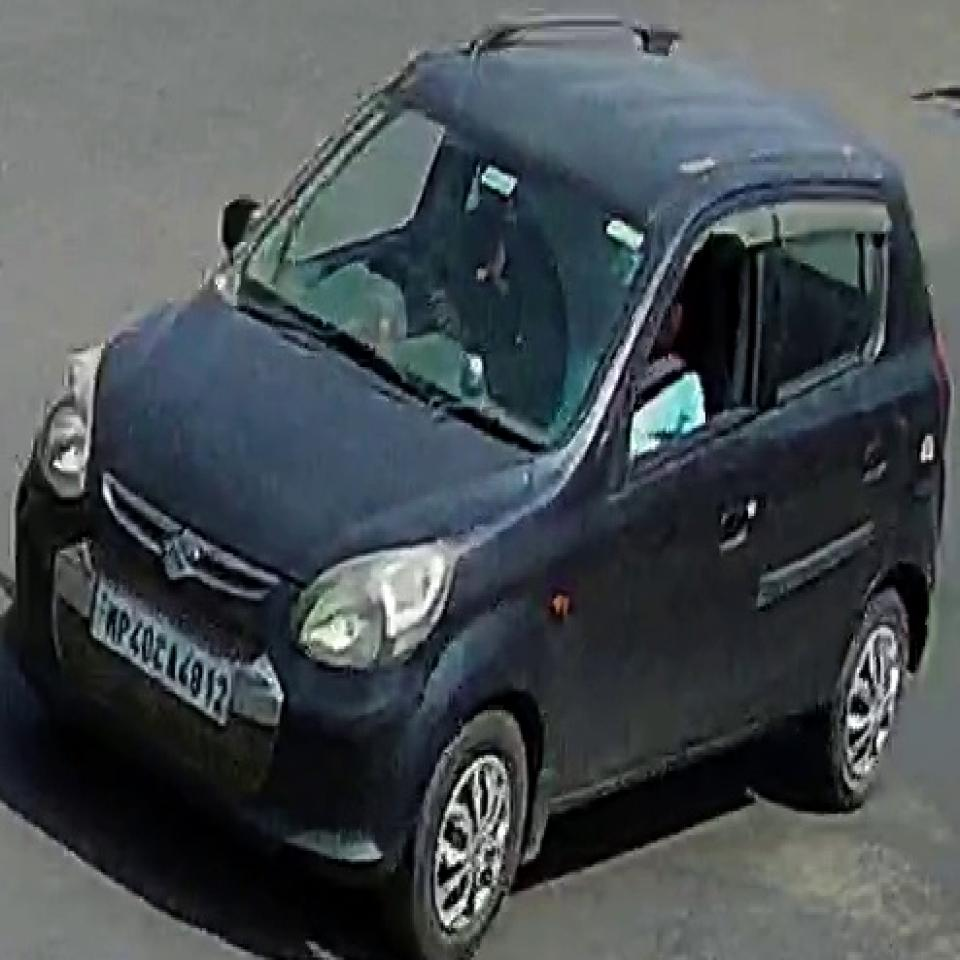head_light: (290, 535, 454, 678)
